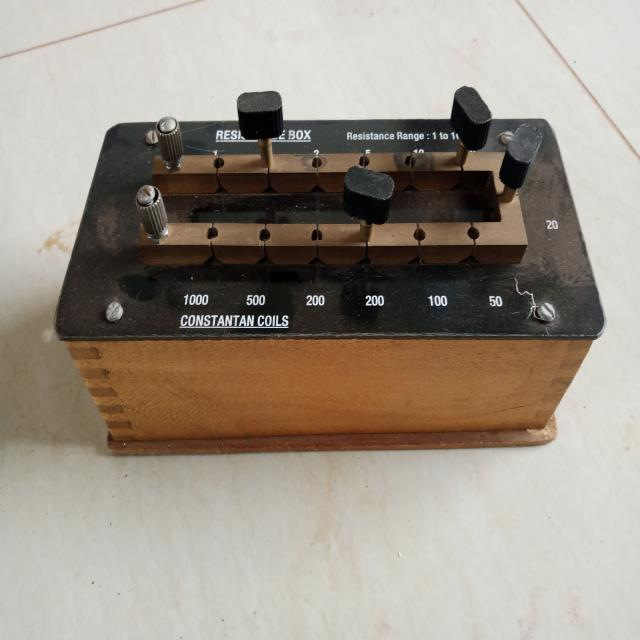Pinned Resistance Box: (48, 62, 610, 480)
